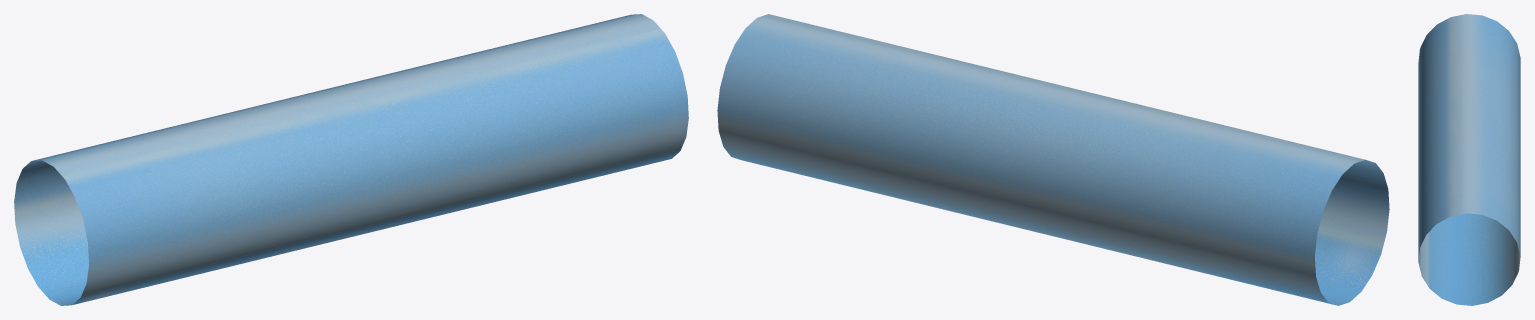
Rendered from sea.fbx.
3 renders of one model, left to right at view 1: azimuth 30°, elevation 25°; view 2: azimuth 150°, elevation 25°; view 3: azimuth 270°, elevation 25°, orthographic. The views are drawn at different scales.
Parts seen in each view (by area): view 1: pCylinder1; view 2: pCylinder1; view 3: pCylinder1.
Boxes of the visible parts, box(x1,y1,x2,y2) form: pCylinder1: box(14, 14, 688, 305); pCylinder1: box(717, 14, 1389, 305); pCylinder1: box(1418, 14, 1520, 305).
Size of the model in its own units: 9.22 by 2 by 2.
Materials: 1 (1 with a texture image).
